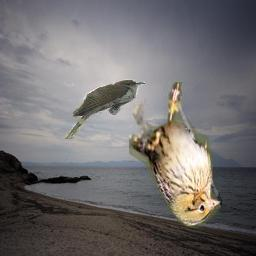Cuckoo: (65, 79, 145, 139)
Sparrow: (130, 82, 223, 228)
